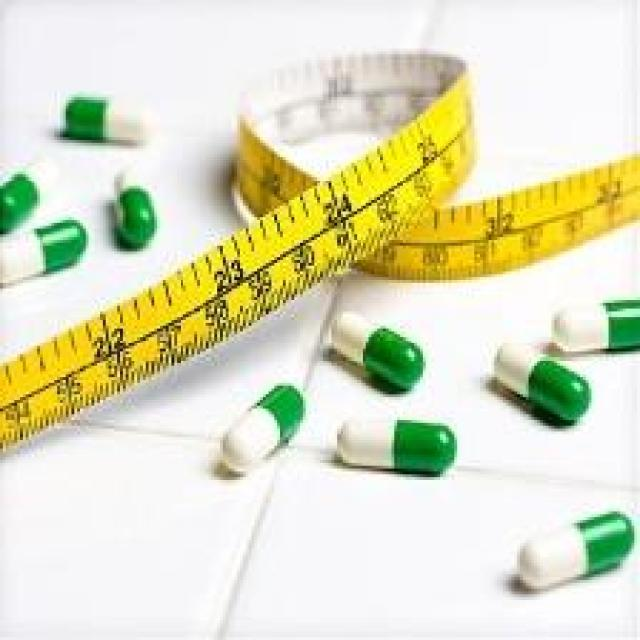Medicine: (183, 291, 640, 639), (0, 66, 175, 279)
